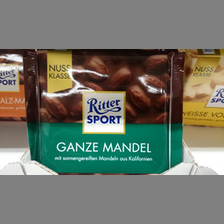chocolate: (25, 50, 185, 173), (180, 50, 224, 129)
